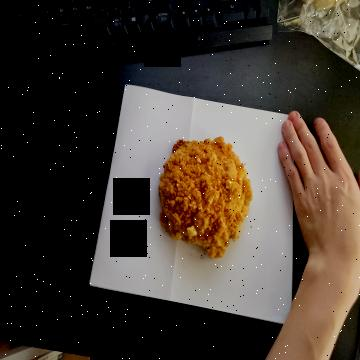soboru_bread: (158, 133, 255, 269)
